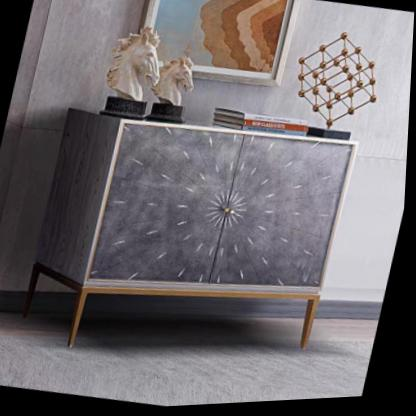Sideboard: (27, 109, 362, 353)
